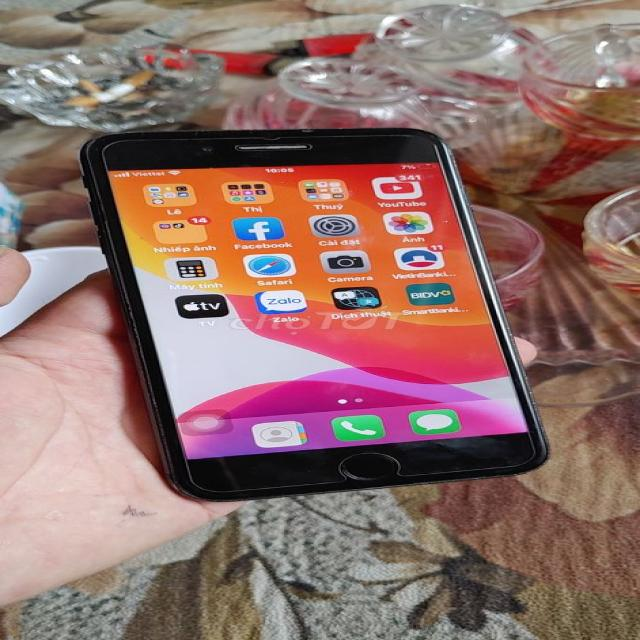gen_7_8: (82, 128, 545, 501)
physical_damage: (252, 130, 290, 144)
scratch: (63, 160, 141, 344), (491, 316, 562, 438), (114, 375, 187, 458), (440, 166, 500, 216), (71, 139, 116, 154), (280, 125, 320, 137), (184, 127, 218, 140)
